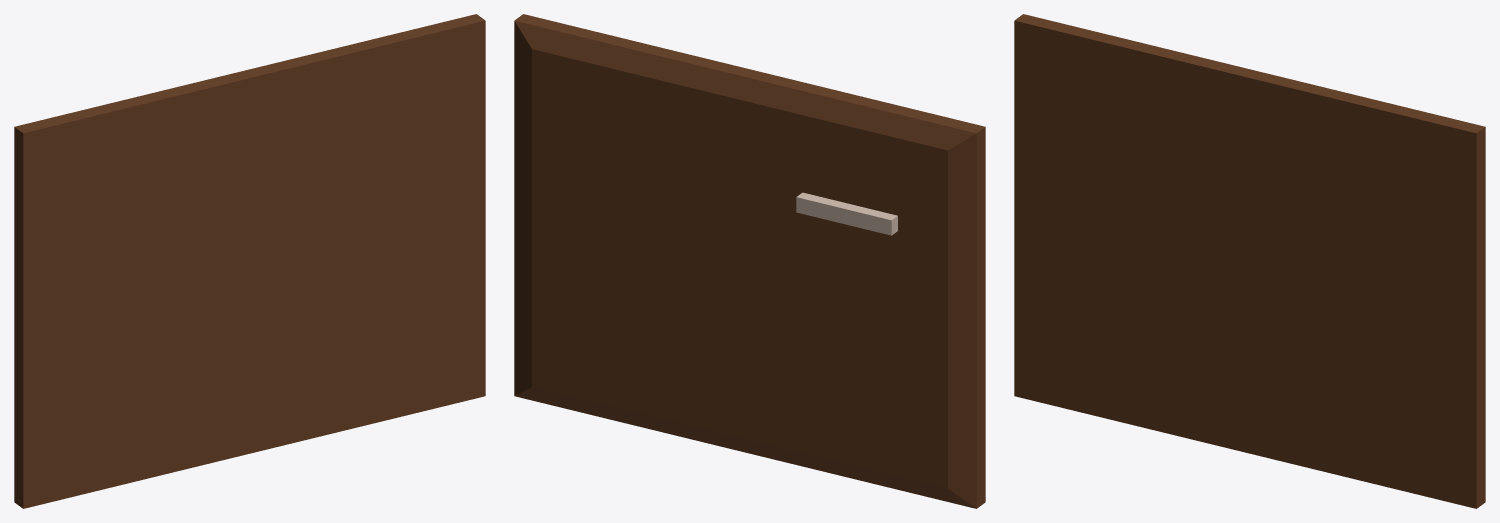
The model's file is Large Dresser Left Bot Drawer.fbx.
The picture shows the model from 3 angles, left to right: view 1: azimuth 30°, elevation 25°; view 2: azimuth 150°, elevation 25°; view 3: azimuth 330°, elevation 25°; orthographic projection.
Visible parts, largest first — view 1: Dresser Big.007; view 2: Dresser Big.007; view 3: Dresser Big.007.
Part boxes in pixels (bbox=[...]): Dresser Big.007: bbox=[14, 14, 485, 508]; Dresser Big.007: bbox=[514, 14, 985, 508]; Dresser Big.007: bbox=[1014, 14, 1485, 508].
Bounding box in the file's own units: 355 × 276 × 27.8.
